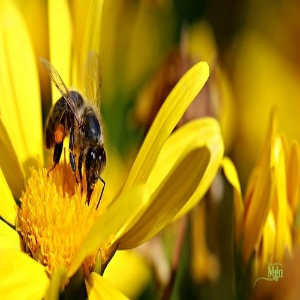bee: (40, 51, 105, 213)
